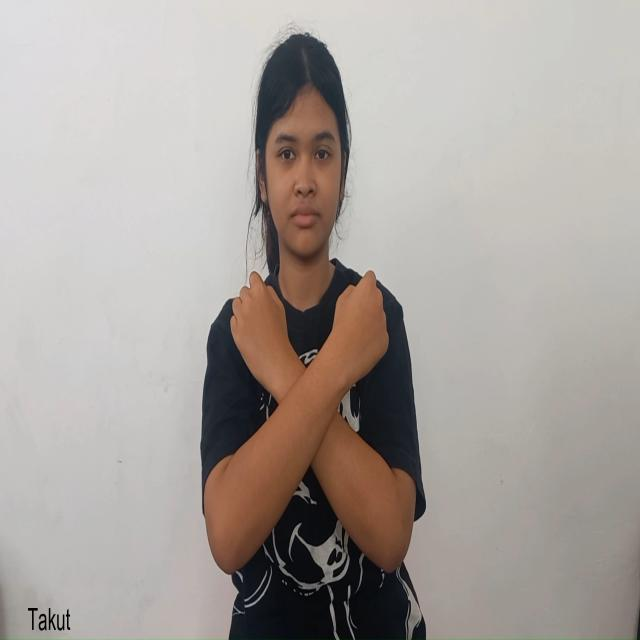Takut -BISINDO-: (220, 267, 398, 576)
